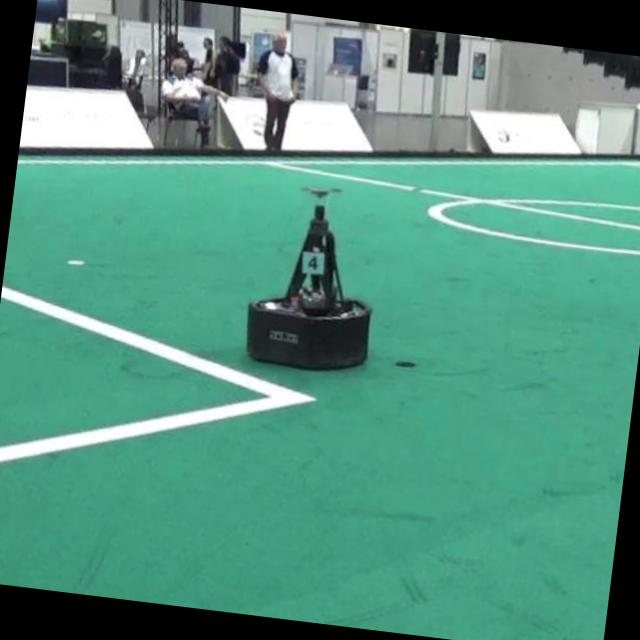robot: (246, 186, 370, 369)
